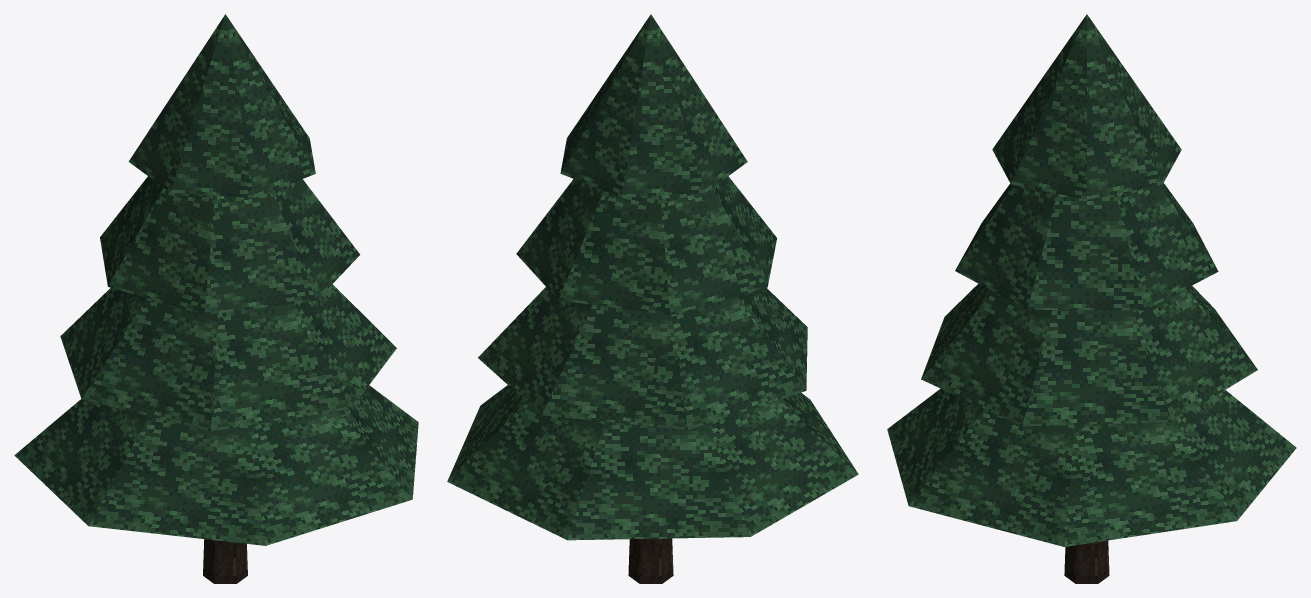
File: arbol_pino.obj
The picture shows the model from 3 angles, left to right: view 1: azimuth 30°, elevation 25°; view 2: azimuth 150°, elevation 25°; view 3: azimuth 270°, elevation 25°; orthographic projection.
Visible parts, largest first — view 1: arbol_pino; view 2: arbol_pino; view 3: arbol_pino.
Part boxes in pixels (x1=…): arbol_pino: x1=14, y1=14, x2=418, y2=583; arbol_pino: x1=447, y1=14, x2=858, y2=583; arbol_pino: x1=887, y1=14, x2=1296, y2=583.
Size of the model in its own units: 2.9 by 4.4 by 2.91.
Materials: 2 (2 with a texture image).
